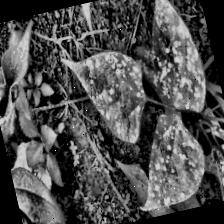Bean Rust: (59, 40, 158, 156), (120, 107, 214, 213), (133, 0, 213, 118)
